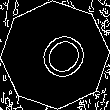O_SW: (22, 22, 88, 88)
